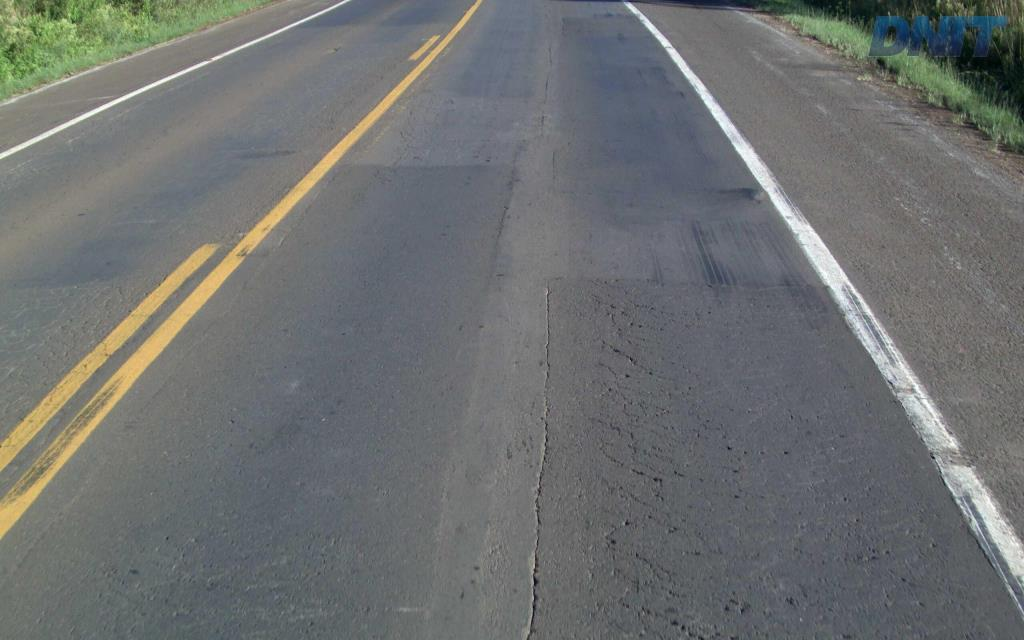crack: (843, 518, 880, 569), (654, 606, 708, 639), (526, 528, 539, 639)
